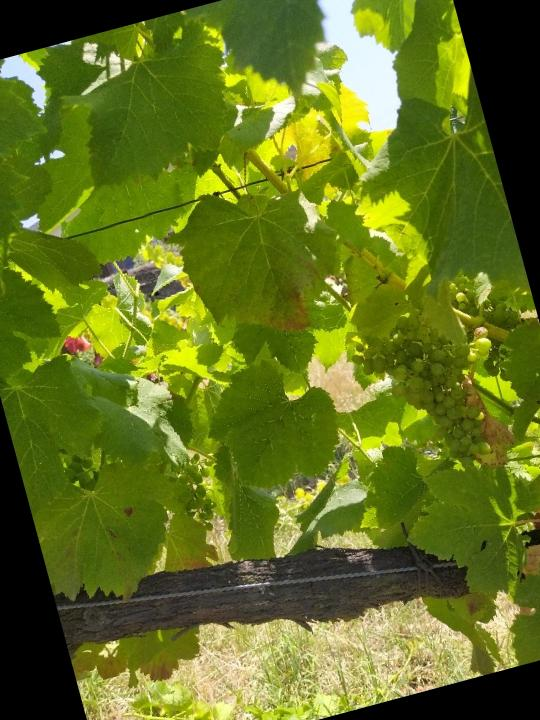grape: (345, 293, 523, 492), (163, 450, 233, 540)
